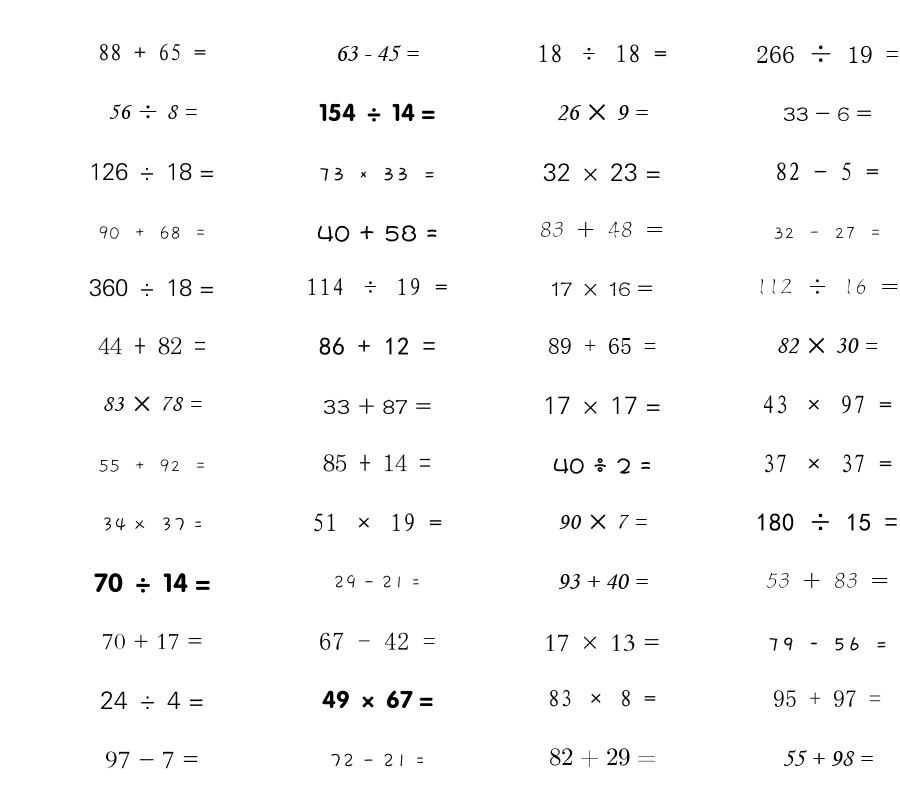MQ: (756, 513, 898, 532), (756, 45, 899, 63), (306, 278, 448, 296), (537, 44, 667, 63), (762, 395, 892, 414), (762, 454, 892, 473), (312, 513, 442, 532), (756, 278, 899, 295), (89, 162, 215, 181), (89, 278, 215, 297), (94, 573, 211, 593), (543, 163, 661, 182), (319, 103, 435, 122), (549, 748, 656, 768), (543, 396, 661, 414), (322, 690, 433, 709), (540, 221, 664, 238), (319, 337, 436, 355), (319, 632, 436, 650), (544, 634, 660, 652), (317, 225, 438, 242), (775, 162, 879, 181), (766, 572, 889, 588), (98, 43, 206, 61), (98, 337, 206, 355), (323, 454, 431, 472), (548, 689, 656, 707), (100, 691, 204, 709), (323, 398, 432, 415), (773, 690, 881, 707), (776, 337, 878, 354), (548, 338, 656, 354), (102, 633, 203, 650), (767, 637, 888, 651), (105, 751, 199, 769), (318, 167, 436, 181), (102, 396, 202, 412), (553, 458, 652, 474), (556, 104, 648, 121), (101, 517, 203, 532), (98, 226, 207, 240), (98, 459, 207, 473), (557, 573, 648, 589), (782, 750, 873, 766), (329, 753, 425, 768), (551, 282, 653, 296), (558, 514, 647, 530), (773, 227, 882, 240), (335, 45, 419, 61), (108, 104, 197, 119), (783, 107, 872, 121), (333, 575, 421, 589)
